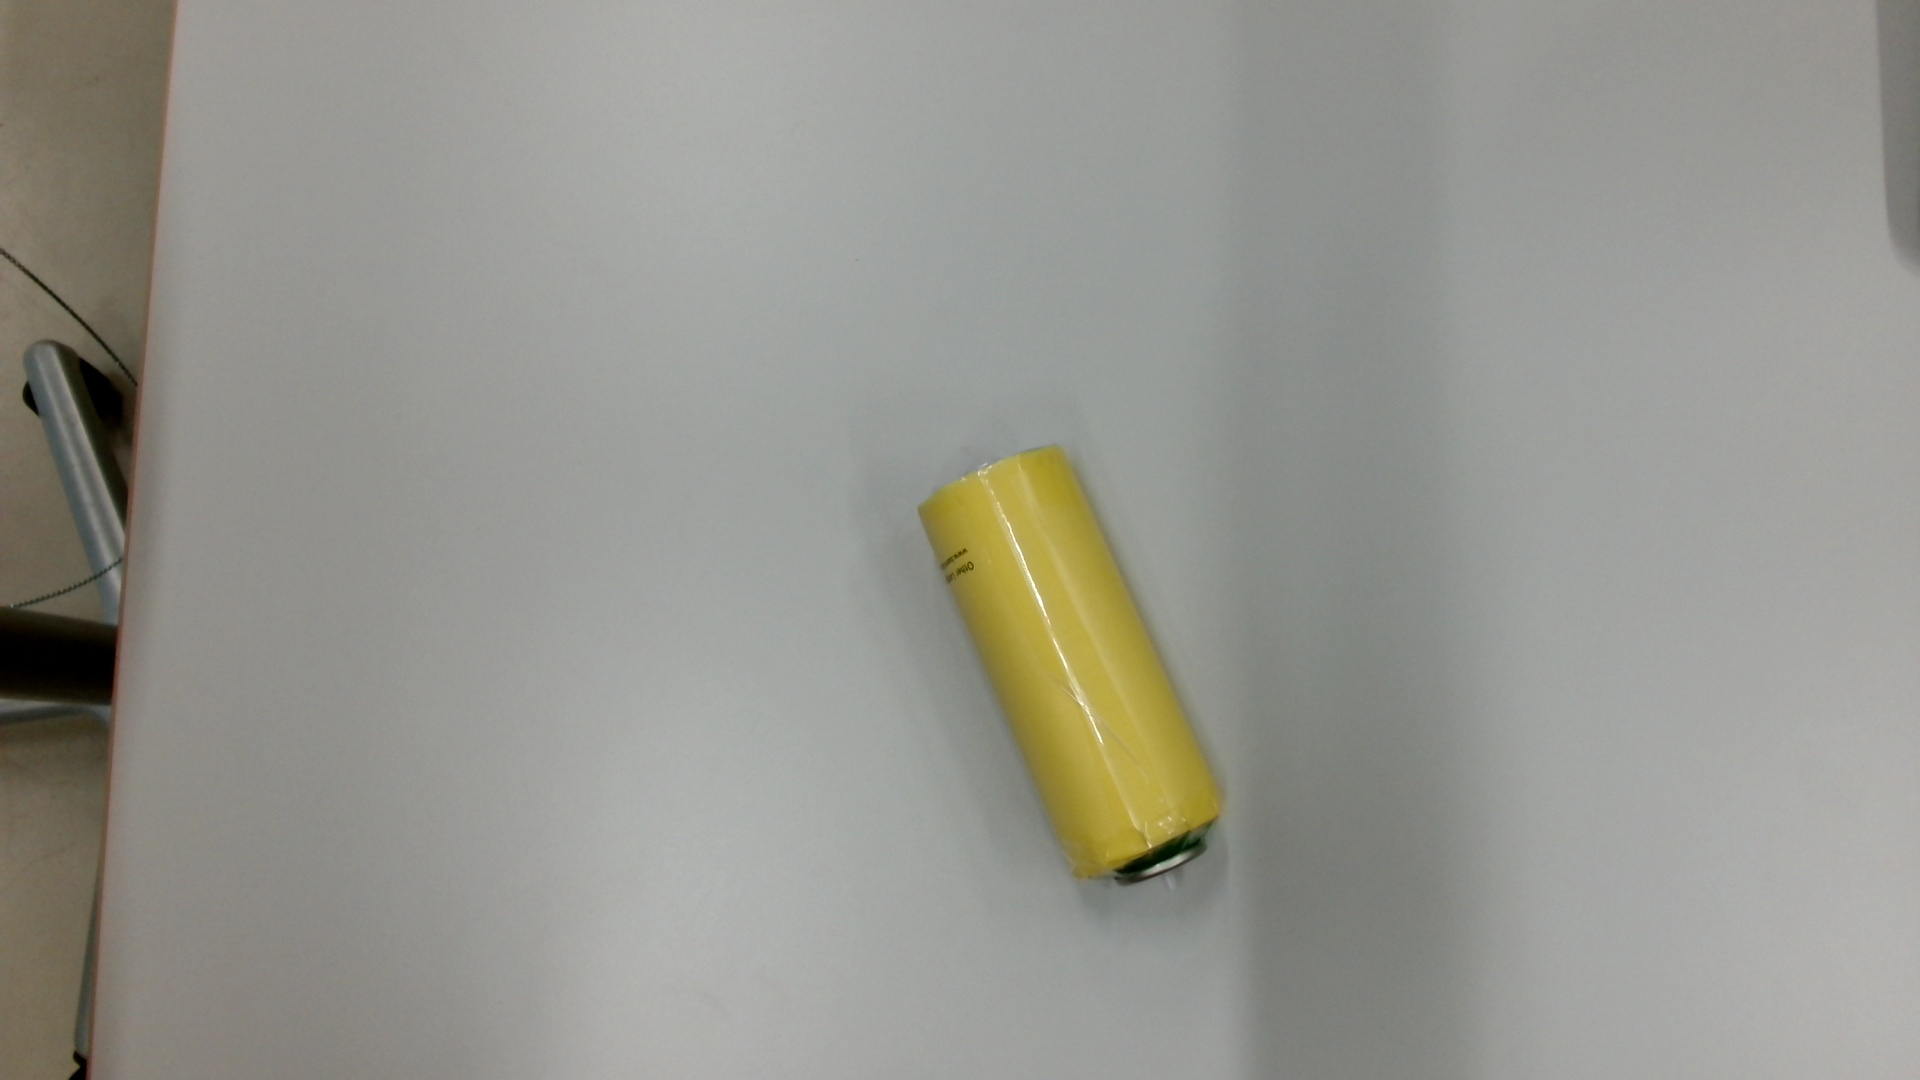Cylinder: (906, 434, 1236, 899)
